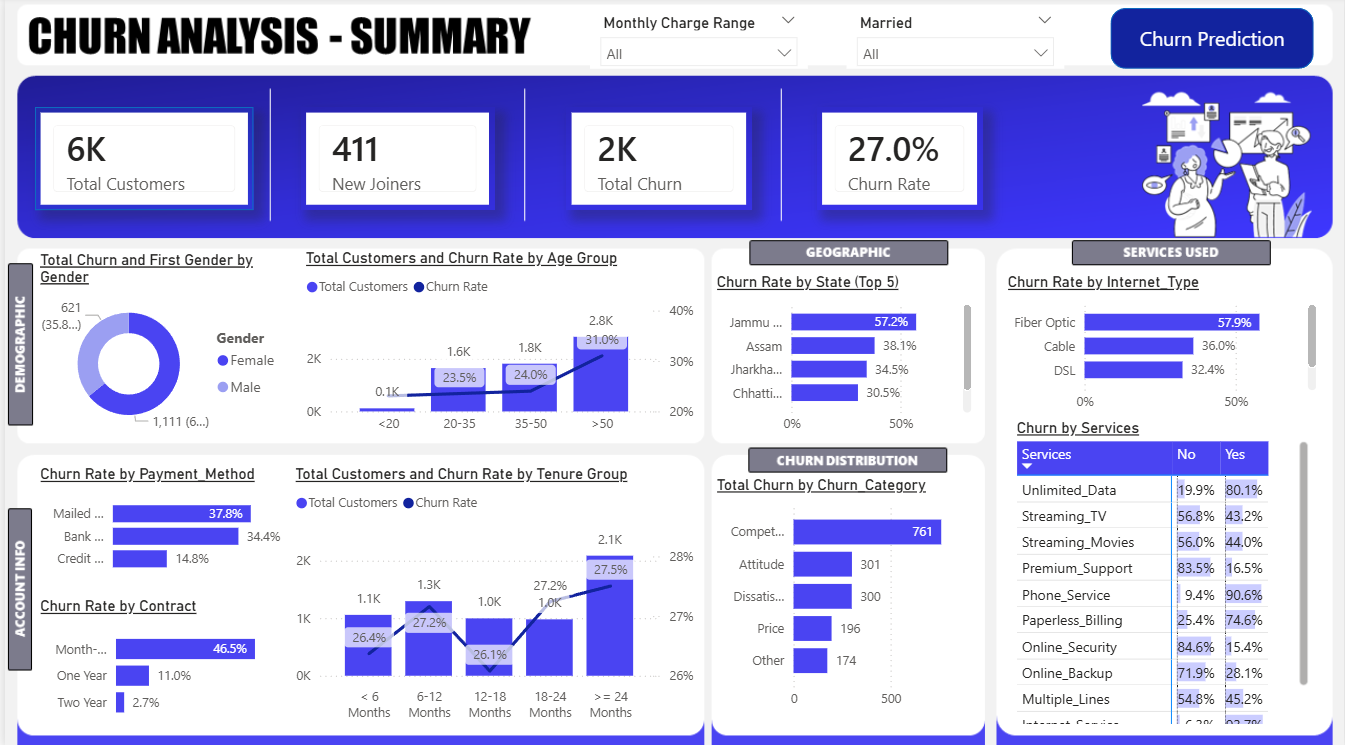

Layout of this report page (visuals, bound fields, positions):
{"tool":"powerbi","page":{"name":"Summary","canvas":[1280,720],"ordinal":0},"visuals":[{"type":"shape","box":[28.6,105.7,208.6,98.6],"z":0},{"type":"cardVisual","fields":{"Data":["tbl_Measures.New Joiners"]},"box":[282.9,105.7,185.7,98.6],"z":1000},{"type":"cardVisual","fields":{"Data":["tbl_Measures.Total Churn"]},"box":[535.7,105.7,177.1,98.6],"z":2000},{"type":"cardVisual","fields":{"Data":["tbl_Measures.Total Customers"]},"box":[28.6,105.7,208.6,98.6],"z":3000},{"type":"cardVisual","fields":{"Data":["tbl_Measures.Churn Rate"]},"box":[774.3,105.7,158.6,98.6],"z":4000},{"type":"donutChart","fields":{"Category":["prod_Churn.Gender"],"Y":["tbl_Measures.Total Churn"]},"box":[28.6,242.9,244.3,182.9],"z":5000},{"type":"lineStackedColumnComboChart","fields":{"Category":["mapping_AgeGrp.Age Group"],"Y":["tbl_Measures.Total Customers"],"Y2":["tbl_Measures.Churn Rate"]},"box":[282.9,241.4,380,184.3],"z":6000},{"type":"clusteredBarChart","fields":{"Category":["prod_Churn.Payment_Method"],"Y":["tbl_Measures.Churn Rate"]},"box":[28.6,448.6,244.3,111.4],"z":7000},{"type":"clusteredBarChart","fields":{"Category":["prod_Churn.Contract"],"Y":["tbl_Measures.Churn Rate"]},"box":[28.6,574.3,254.3,125.7],"z":8000},{"type":"lineStackedColumnComboChart","fields":{"Category":["mapping_TenureGrp.Tenure Group"],"Y":["tbl_Measures.Total Customers"],"Y2":["tbl_Measures.Churn Rate"]},"box":[272.9,448.6,390,251.4],"z":9000},{"type":"clusteredBarChart","title":"Churn Rate by State (Top 5)","fields":{"Category":["prod_Churn.State"],"Y":["tbl_Measures.Churn Rate"]},"box":[674.3,264.3,252.9,161.4],"z":10000},{"type":"clusteredBarChart","fields":{"Category":["prod_Churn.Churn_Category"],"Y":["tbl_Measures.Total Churn"]},"box":[674.3,458.6,258.6,230],"z":11000},{"type":"clusteredBarChart","fields":{"Category":["prod_Churn.Internet_Type"],"Y":["tbl_Measures.Churn Rate"]},"box":[952.9,264.3,304.3,140],"z":12000},{"type":"pivotTable","title":"Churn by Services","fields":{"Columns":["prod_Services.Status"],"Rows":["prod_Services.Services"],"Values":["Sum(prod_Services.Churn Status)"]},"box":[961.4,404.3,288.6,295.7],"z":13000},{"type":"slicer","fields":{"Values":["prod_Services.Monthly Charge Status"]},"box":[558,12,208,58],"z":14000},{"type":"slicer","fields":{"Values":["prod_Services.Married"]},"box":[804,12,208,58],"z":15000},{"type":"shape","box":[1056,12,194,58],"z":15001}]}

Visuals, with their boxes in screenshot pixels (x1, y1, x2, y2), scaled from the page's 1280x720 canvas onto the 1345x745 screenshot:
shape: x1=30, y1=109, x2=249, y2=211
cardVisual - tbl_Measures.New Joiners: x1=297, y1=109, x2=492, y2=211
cardVisual - tbl_Measures.Total Churn: x1=563, y1=109, x2=749, y2=211
cardVisual - tbl_Measures.Total Customers: x1=30, y1=109, x2=249, y2=211
cardVisual - tbl_Measures.Churn Rate: x1=814, y1=109, x2=980, y2=211
donutChart - prod_Churn.Gender x tbl_Measures.Total Churn: x1=30, y1=251, x2=287, y2=441
lineStackedColumnComboChart - mapping_AgeGrp.Age Group x tbl_Measures.Total Customers: x1=297, y1=250, x2=697, y2=440
clusteredBarChart - prod_Churn.Payment_Method x tbl_Measures.Churn Rate: x1=30, y1=464, x2=287, y2=579
clusteredBarChart - prod_Churn.Contract x tbl_Measures.Churn Rate: x1=30, y1=594, x2=297, y2=724
lineStackedColumnComboChart - mapping_TenureGrp.Tenure Group x tbl_Measures.Total Customers: x1=287, y1=464, x2=697, y2=724
"Churn Rate by State (Top 5)" clusteredBarChart: x1=709, y1=273, x2=974, y2=440
clusteredBarChart - prod_Churn.Churn_Category x tbl_Measures.Total Churn: x1=709, y1=475, x2=980, y2=713
clusteredBarChart - prod_Churn.Internet_Type x tbl_Measures.Churn Rate: x1=1001, y1=273, x2=1321, y2=418
"Churn by Services" pivotTable: x1=1010, y1=418, x2=1313, y2=724
slicer - prod_Services.Monthly Charge Status: x1=586, y1=12, x2=805, y2=72
slicer - prod_Services.Married: x1=845, y1=12, x2=1063, y2=72
shape: x1=1110, y1=12, x2=1313, y2=72
